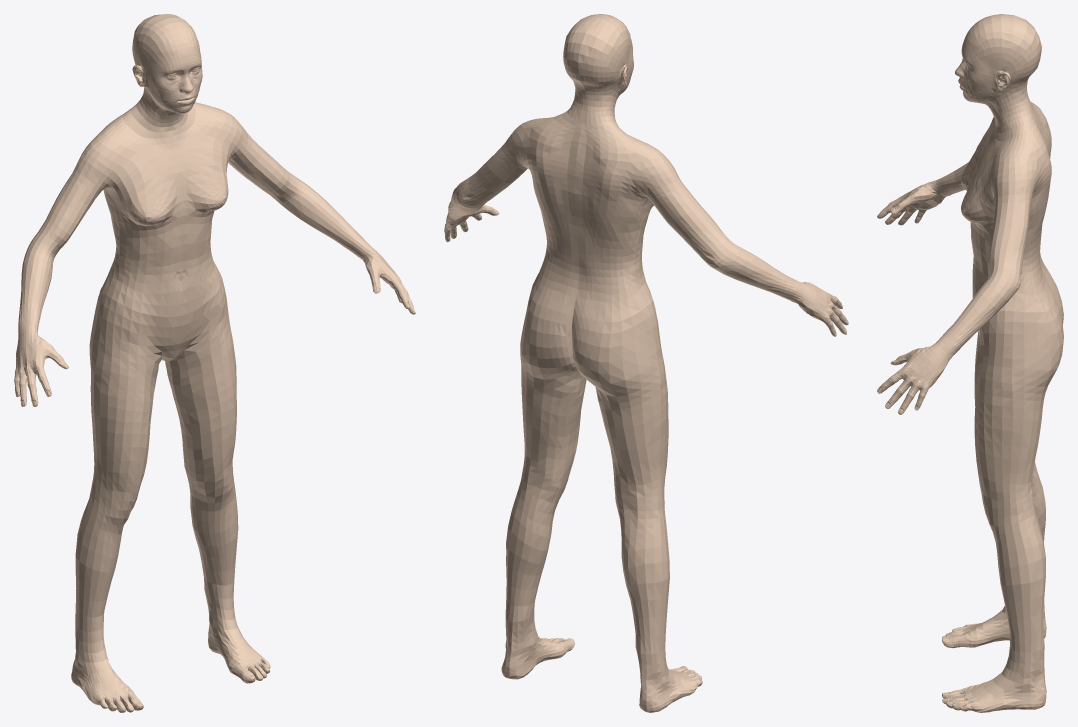
The model's file is female-mature-fit-strong.glb.
3 views of the same model, side by side, from view 1: azimuth 30°, elevation 25°; view 2: azimuth 150°, elevation 25°; view 3: azimuth 270°, elevation 25° (orthographic).
Parts seen in each view (by area): view 1: world; view 2: world; view 3: world.
Part boxes in pixels (x1,y1,x2,y2): world: [14, 14, 415, 712]; world: [444, 14, 848, 712]; world: [877, 14, 1063, 712].
Bounding box in the file's own units: 1.12 × 1.81 × 0.4658.
